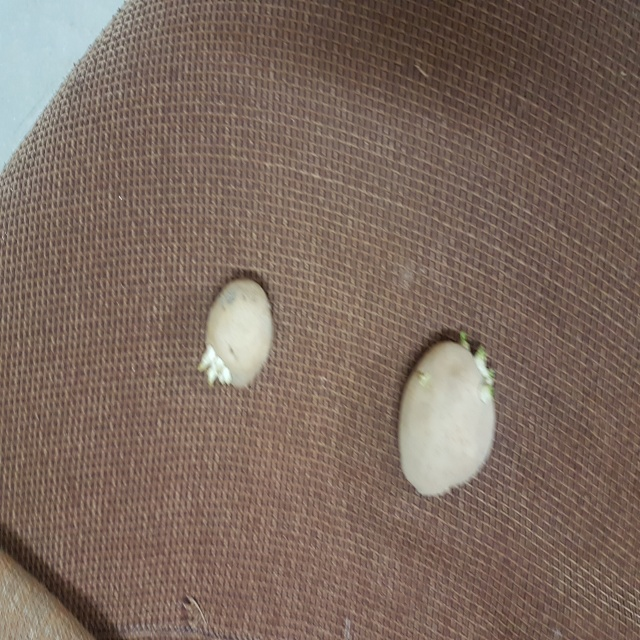potato: (391, 332, 509, 505), (198, 271, 281, 394)
